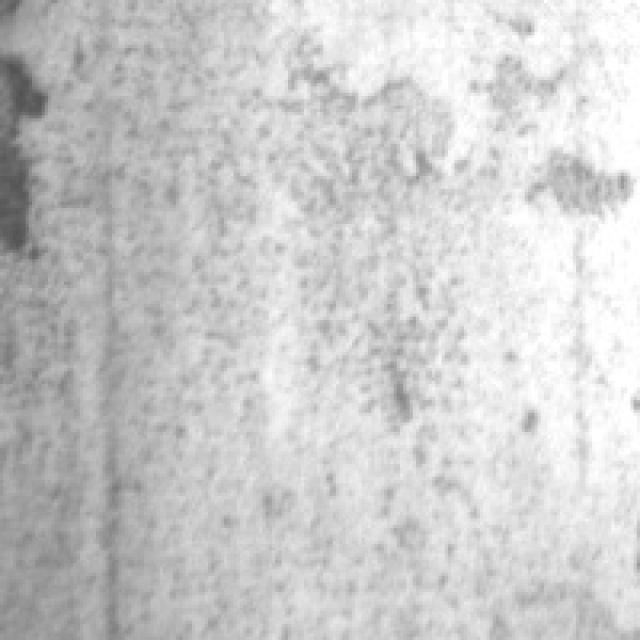patches: (531, 138, 637, 218)
pitted_surface: (64, 16, 573, 618)
